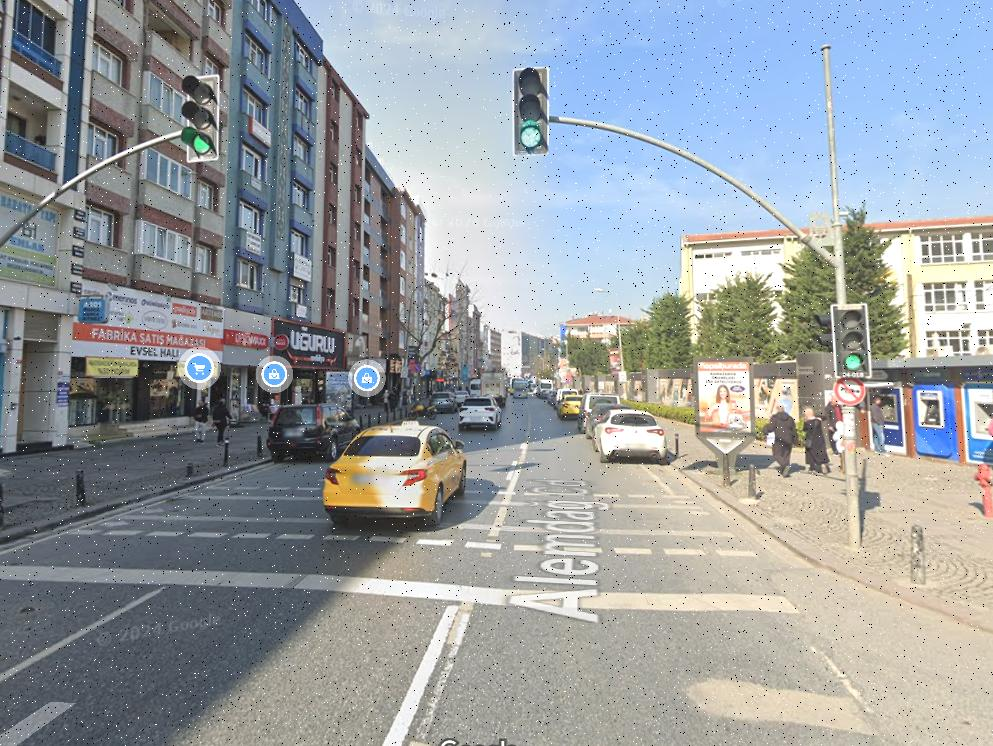greenlight: (180, 73, 216, 157), (514, 67, 546, 148), (835, 306, 867, 373)
